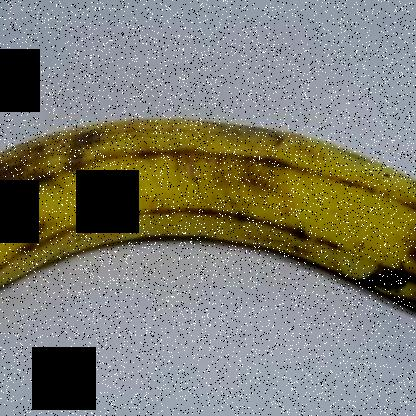overripe: (1, 110, 415, 319)
